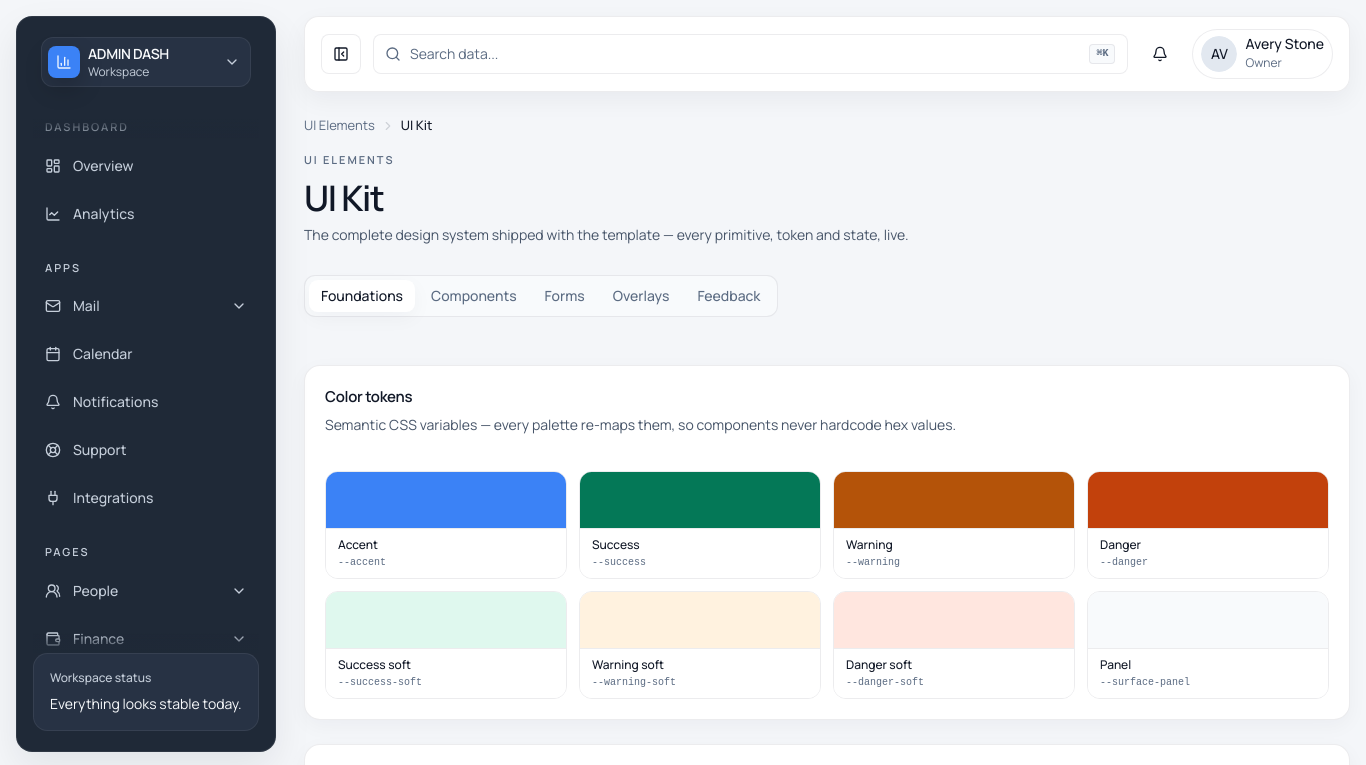
ui kit page › renders the feedback panel with toasts and skeletons
Click the tab "Feedback": (729, 296) [685,280,772,312]
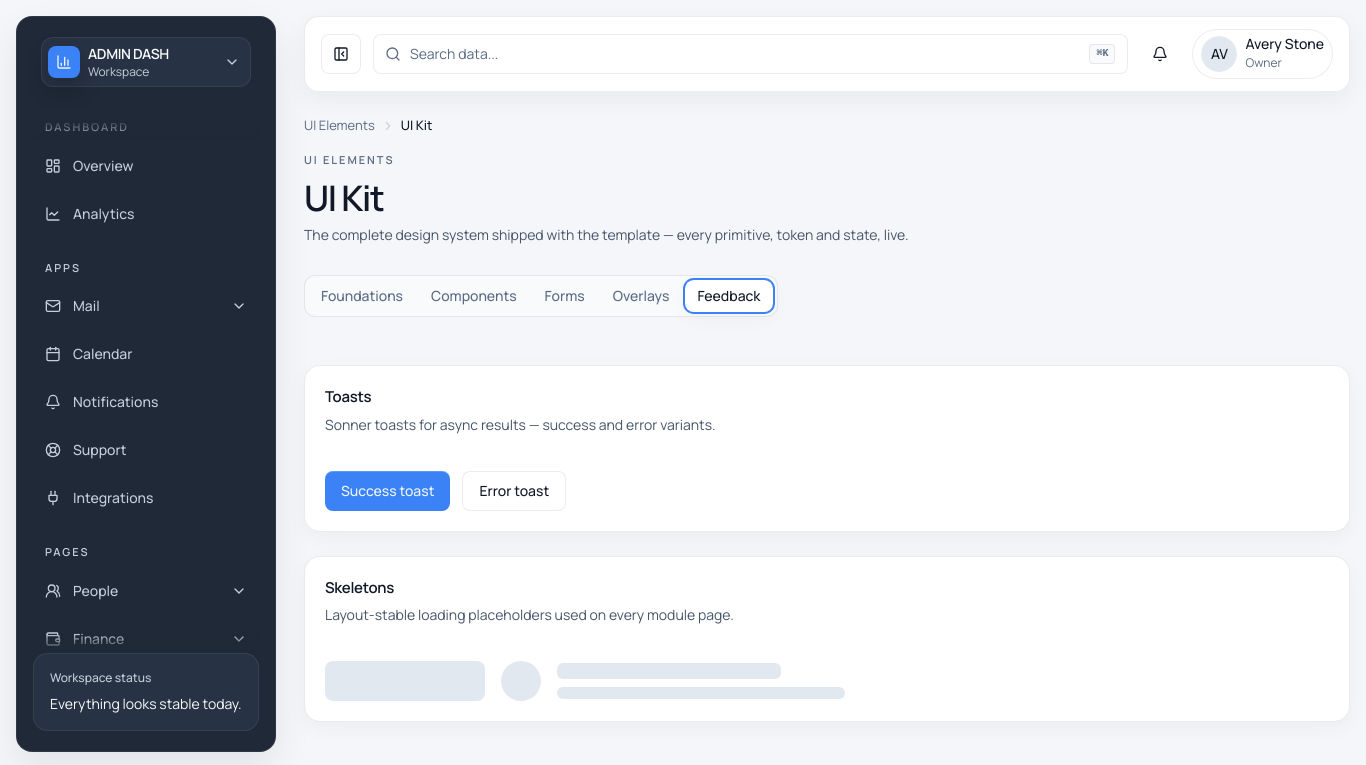
Result: the heading "Skeletons" is shown at [325,577,394,598]
Click the button "Success toast": (388, 491) [325,471,450,511]
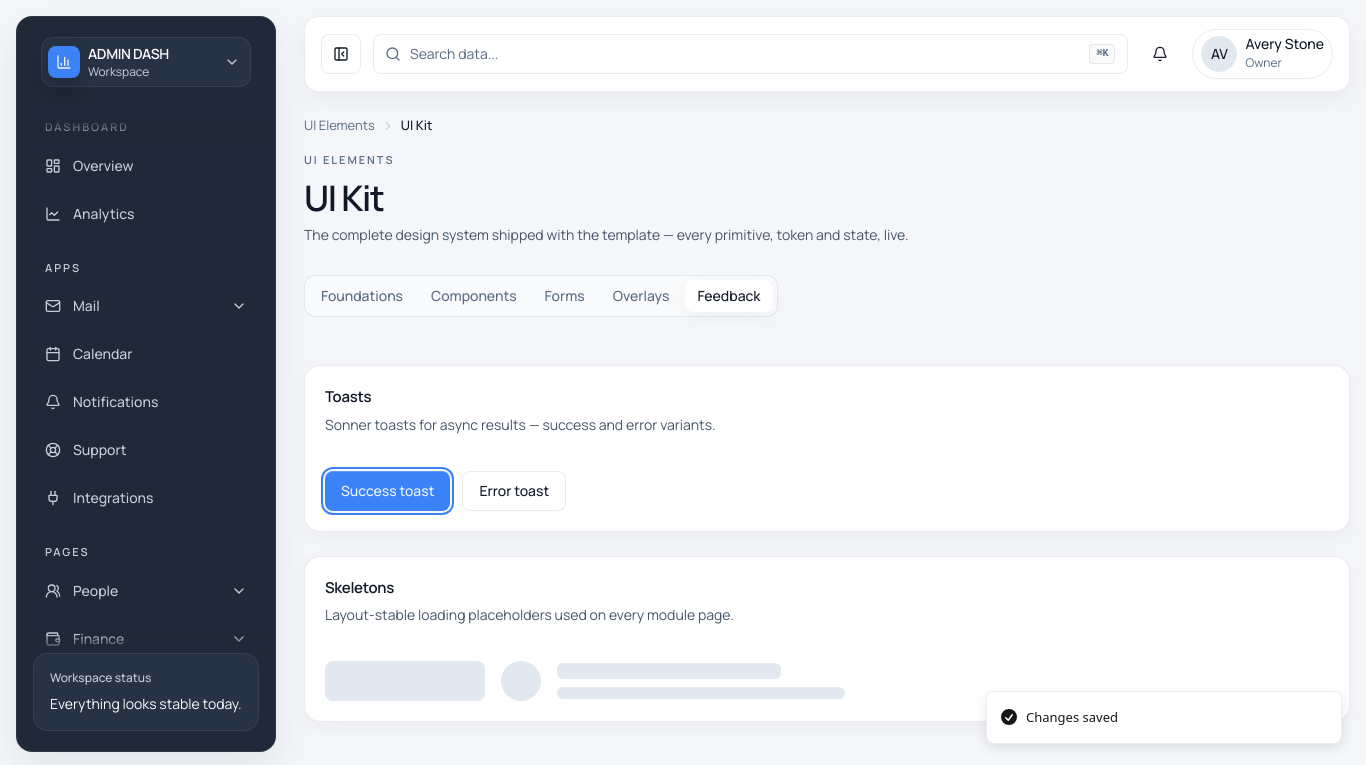
Result: the text "Changes saved" is shown at [1026,708,1118,727]
